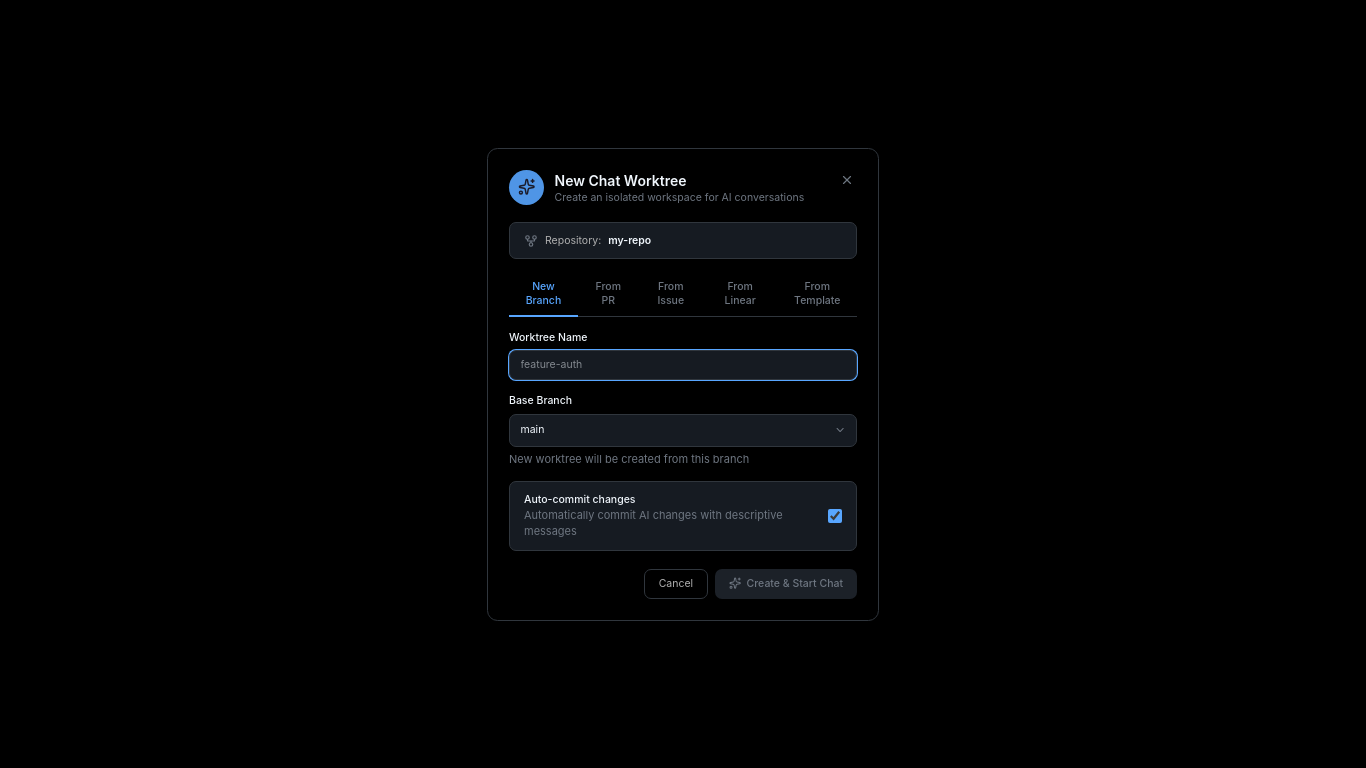
NewWorkspaceDialog › shows error when create fails
The width and height of the screenshot is (1366, 768).
Check: the dropdown is enabled, box [509,414,857,447]
Type "my-ws" into the field with placeholder "feature-auth" at [683, 365], box [509,350,857,380]
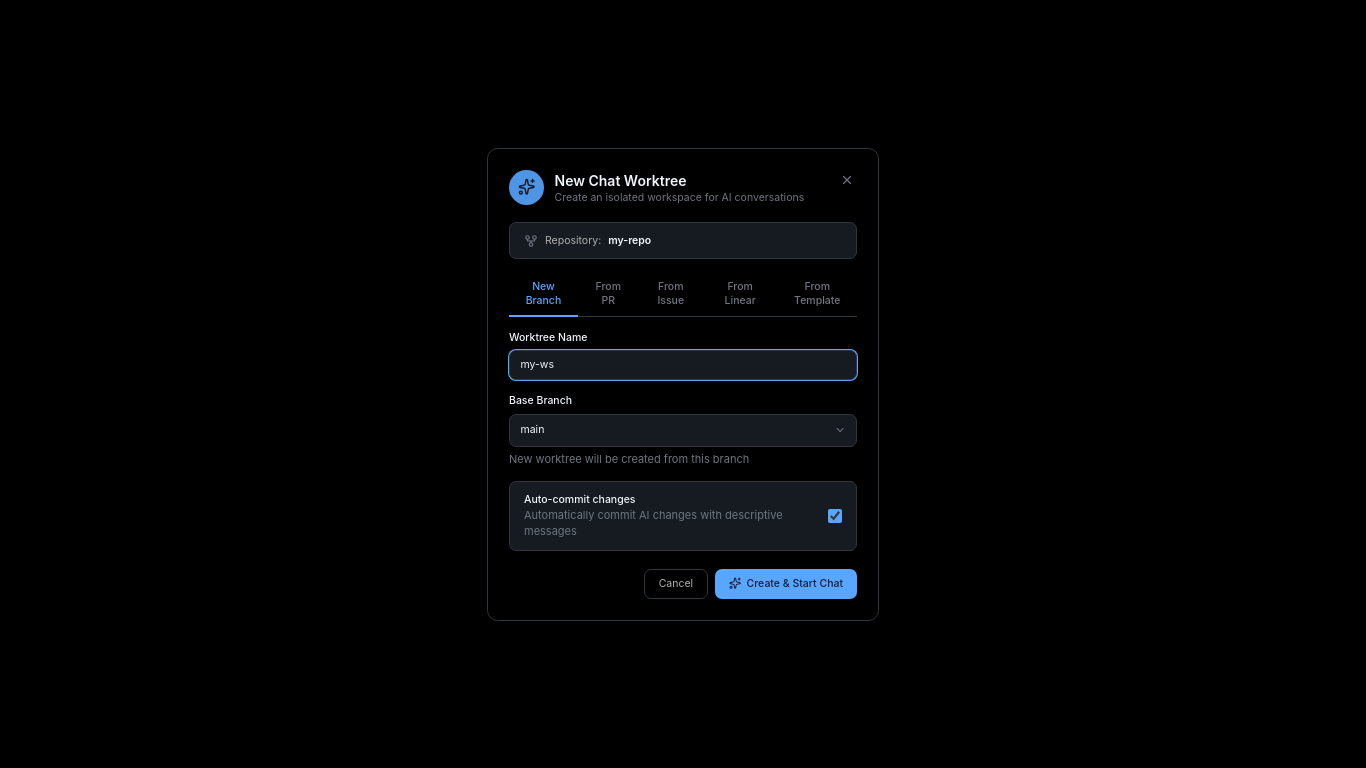
Click the button "Create & Start Chat" at [786, 584], box [715,568,857,598]
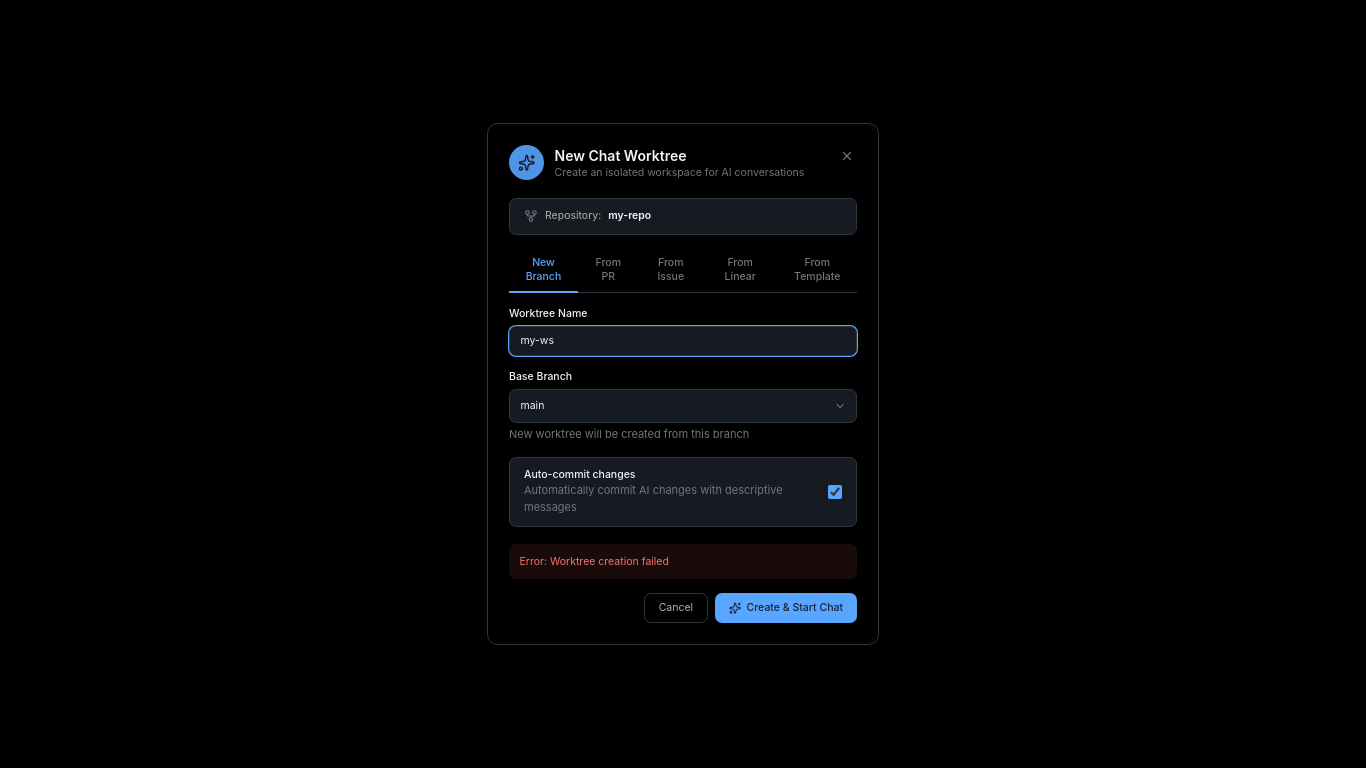
Check: the button "Create & Start Chat" is shown, box [715,593,857,623]
Check: the text "Error: Worktree creation failed" is shown, box [509,544,857,579]
